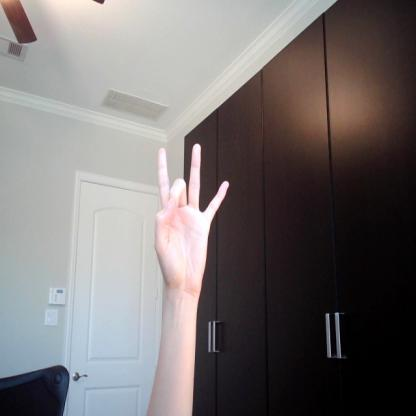eight: (148, 139, 230, 301)
